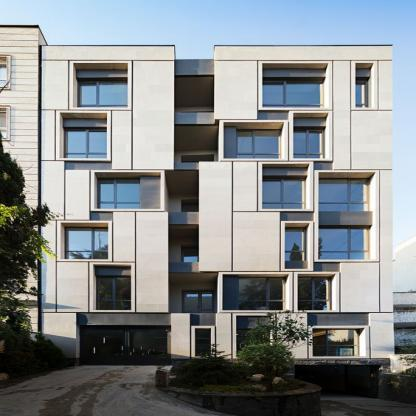Building Outline: (39, 44, 416, 416)
Door: (80, 326, 168, 366), (295, 365, 381, 400)
Facade: (39, 44, 415, 416)
Floor Slab: (41, 212, 392, 224), (41, 113, 392, 124), (41, 162, 392, 173), (41, 314, 392, 324), (41, 263, 392, 273)
Window: (262, 63, 328, 107), (94, 172, 160, 209), (73, 63, 128, 107), (222, 275, 288, 311), (319, 173, 376, 212), (223, 122, 284, 158), (263, 164, 311, 209), (60, 113, 107, 158), (319, 225, 376, 259), (93, 265, 131, 311), (60, 223, 108, 259), (319, 228, 370, 259), (319, 180, 370, 211), (262, 82, 321, 108), (294, 113, 328, 158), (313, 328, 365, 357), (297, 275, 337, 311), (239, 278, 283, 310), (237, 316, 270, 357), (66, 228, 109, 259), (79, 82, 128, 108), (262, 179, 304, 209), (99, 179, 140, 209), (313, 329, 358, 356), (237, 130, 280, 158), (65, 130, 107, 158), (285, 223, 310, 269), (298, 278, 331, 310), (98, 278, 131, 310), (237, 329, 270, 356), (294, 130, 324, 158), (356, 63, 373, 107), (285, 229, 306, 261), (184, 291, 213, 313), (195, 329, 211, 356), (356, 82, 365, 108), (184, 247, 199, 262), (184, 203, 199, 212)
